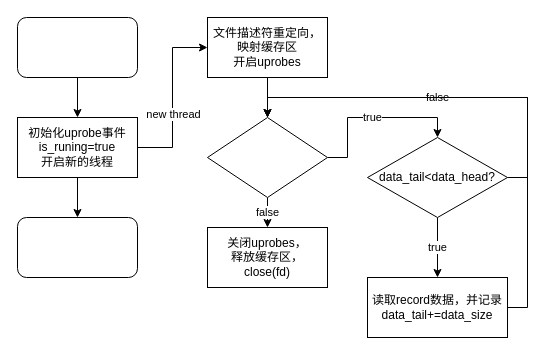
Image size: 553x355. Some labels were removed from this diagram. Each missing label, with the centre of its shape:
is_runging?: (x=267, y=157)
start_up: (x=77, y=47)
返回成功信息: (x=77, y=247)
